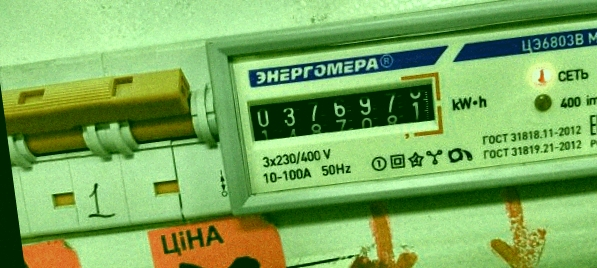0: (253, 105, 271, 128)
1: (409, 99, 423, 121)
3: (280, 104, 297, 128)
6: (331, 95, 347, 118)
7: (305, 98, 321, 123), (382, 89, 398, 114)
9: (356, 93, 372, 116)
screen: (239, 68, 449, 162)
